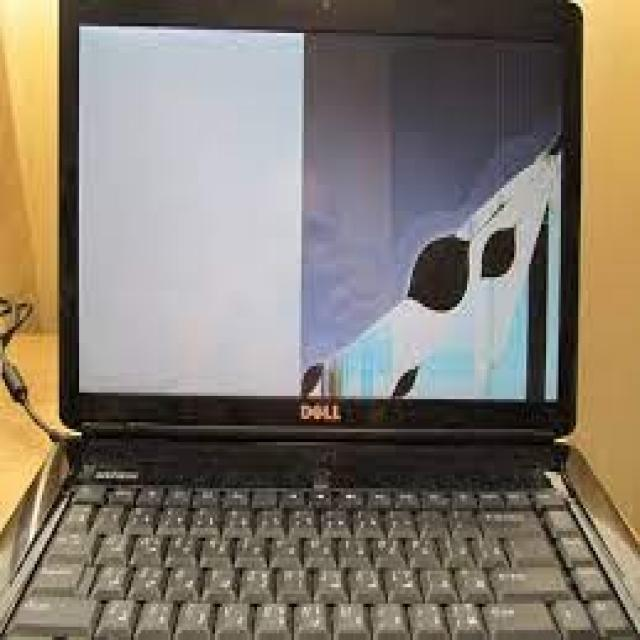Screen cracks: (304, 33, 571, 399)
